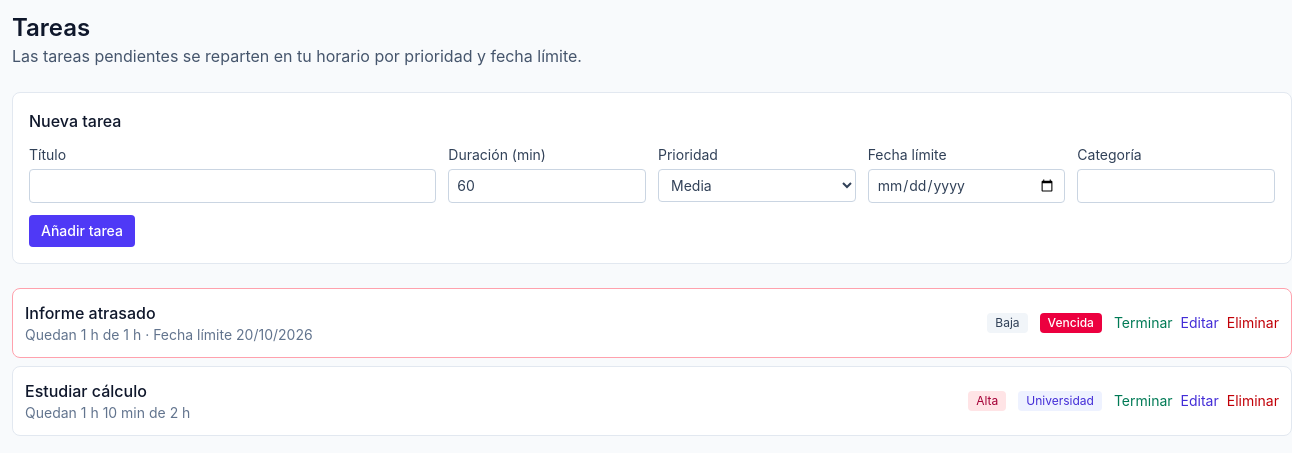
TasksPage (US3) › marca una tarea como terminada
Click the button "Terminar" in the row of "Estudiar cálculo" at coordinates (1143, 401), box [1114, 391, 1173, 411]
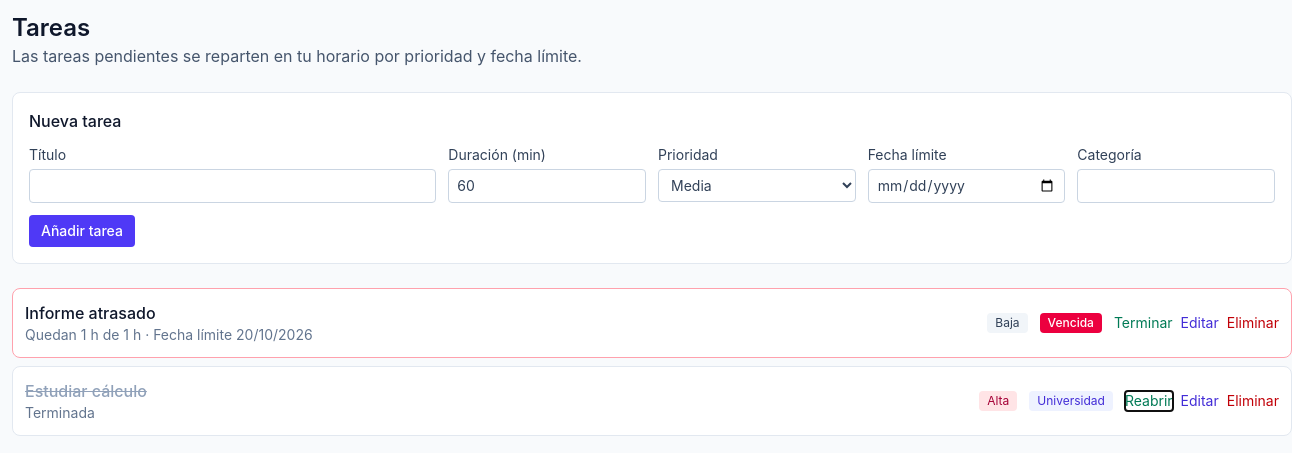
Now the button "Reabrir" is shown, box [1125, 391, 1173, 411]
